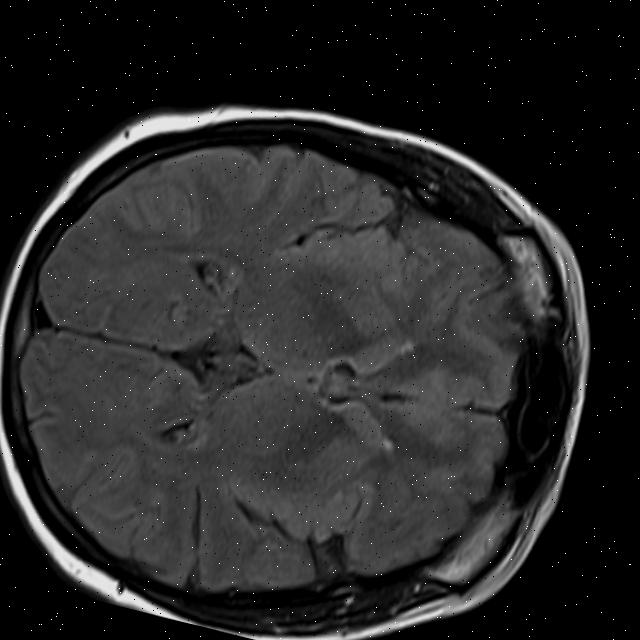NoTumor: (0, 47, 636, 640)
